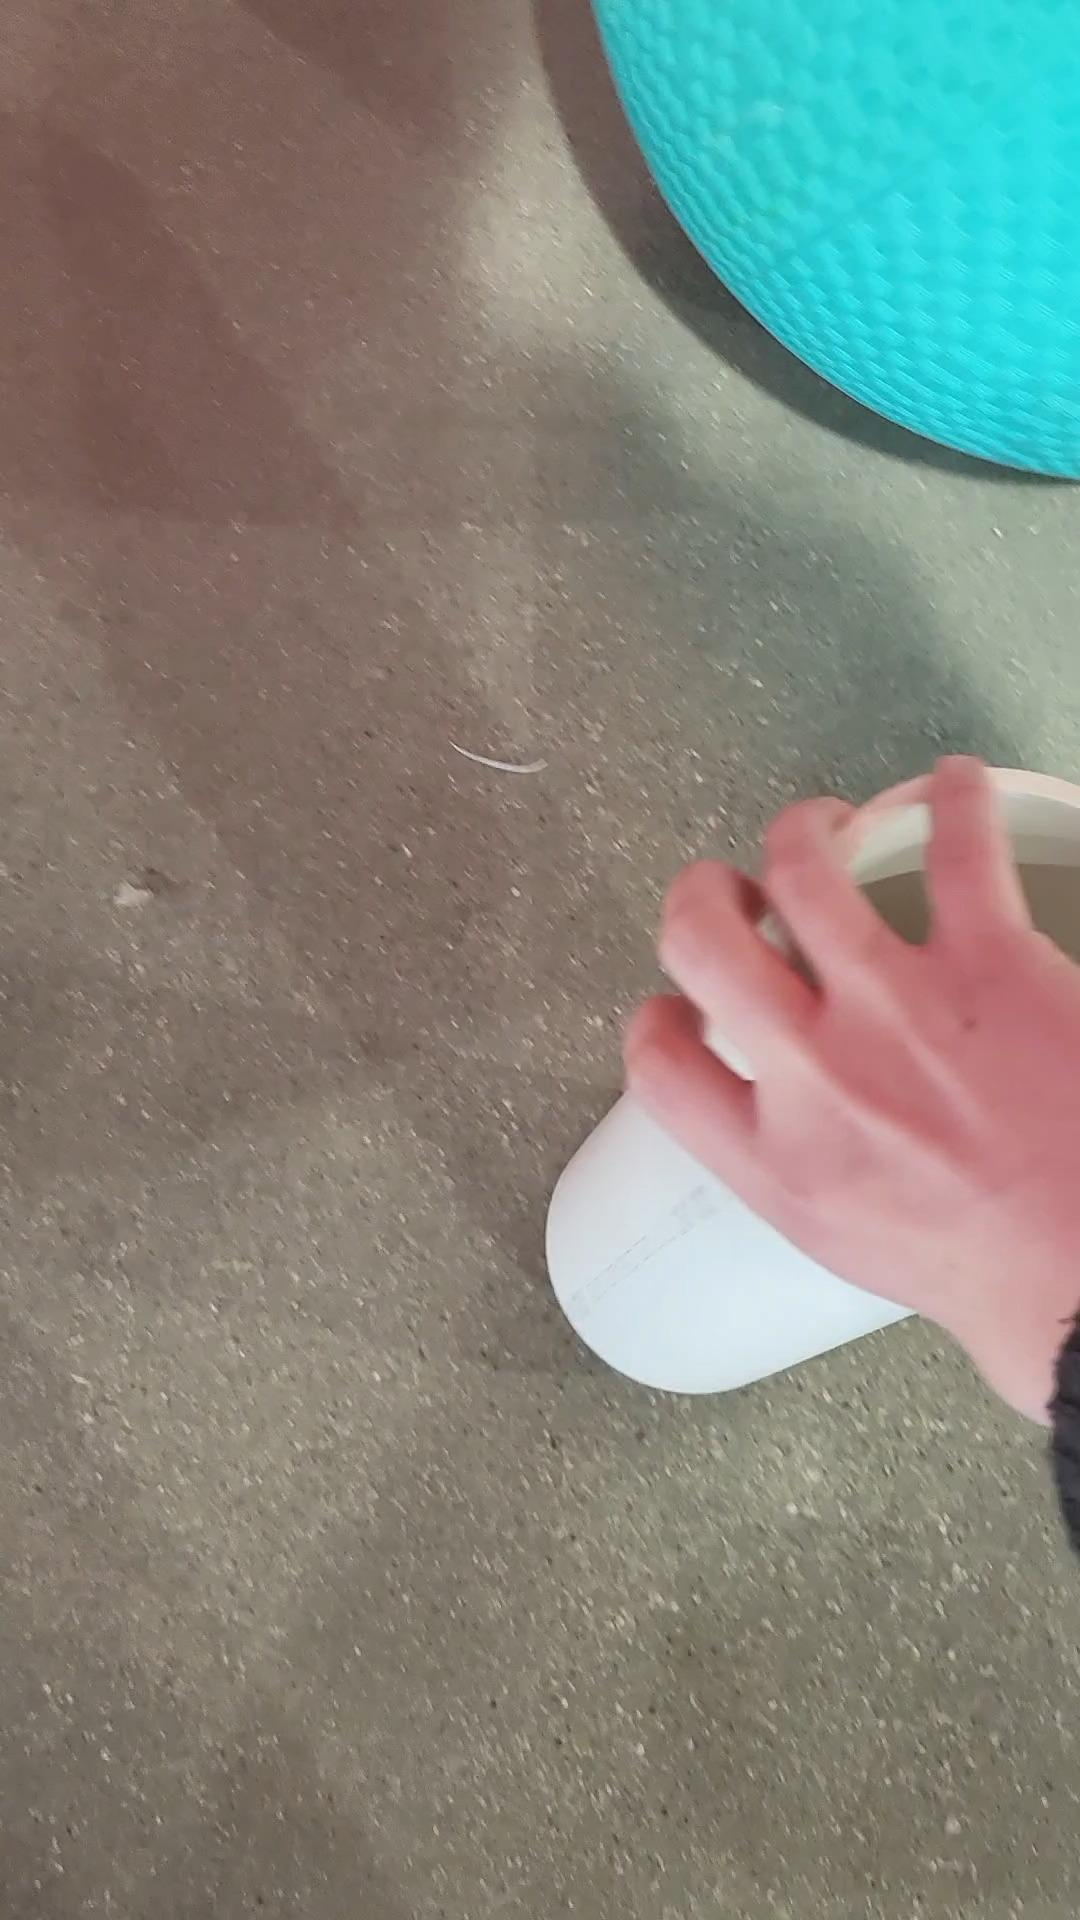algae: (551, 0, 1080, 496)
coral: (535, 766, 1080, 1424)
